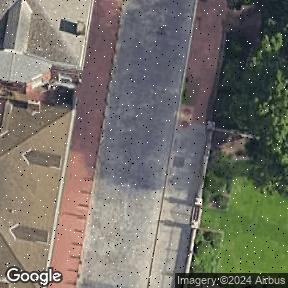vegetation: (214, 0, 288, 194)
